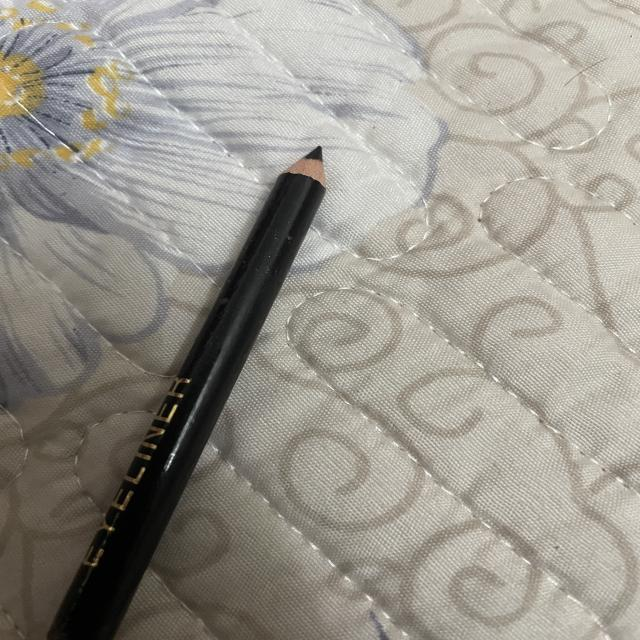eye liner: (25, 122, 356, 640)
